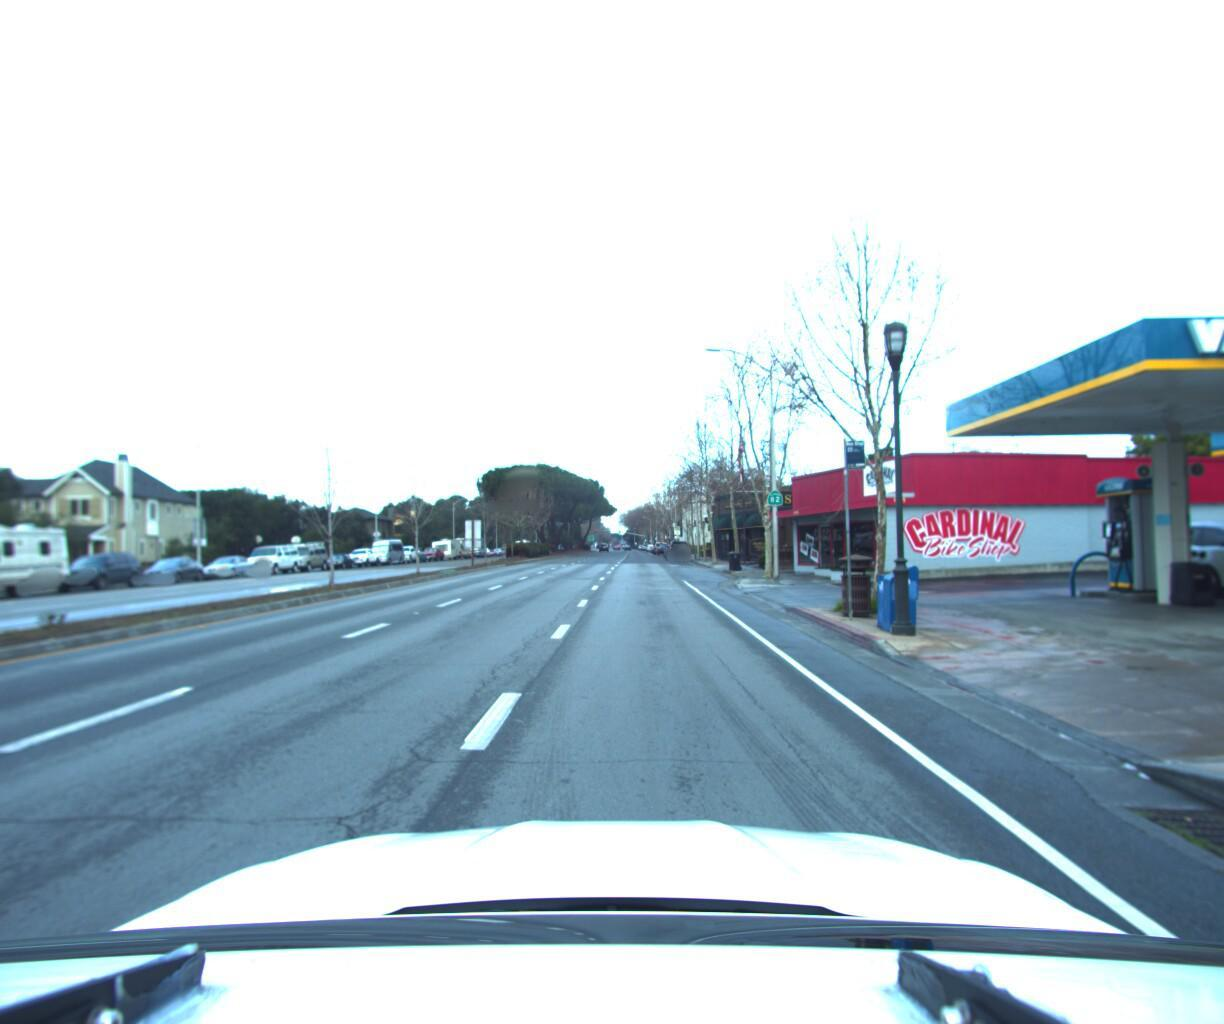car: (1097, 505, 1224, 594), (50, 549, 155, 594), (138, 555, 213, 586), (242, 542, 308, 576), (277, 539, 333, 571), (196, 553, 265, 580), (365, 533, 410, 564), (343, 545, 385, 567), (665, 536, 691, 555)
